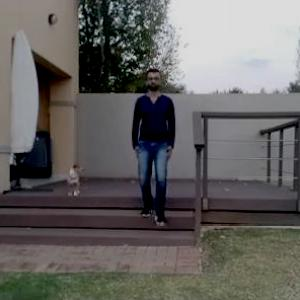follow: (139, 70, 177, 222)
